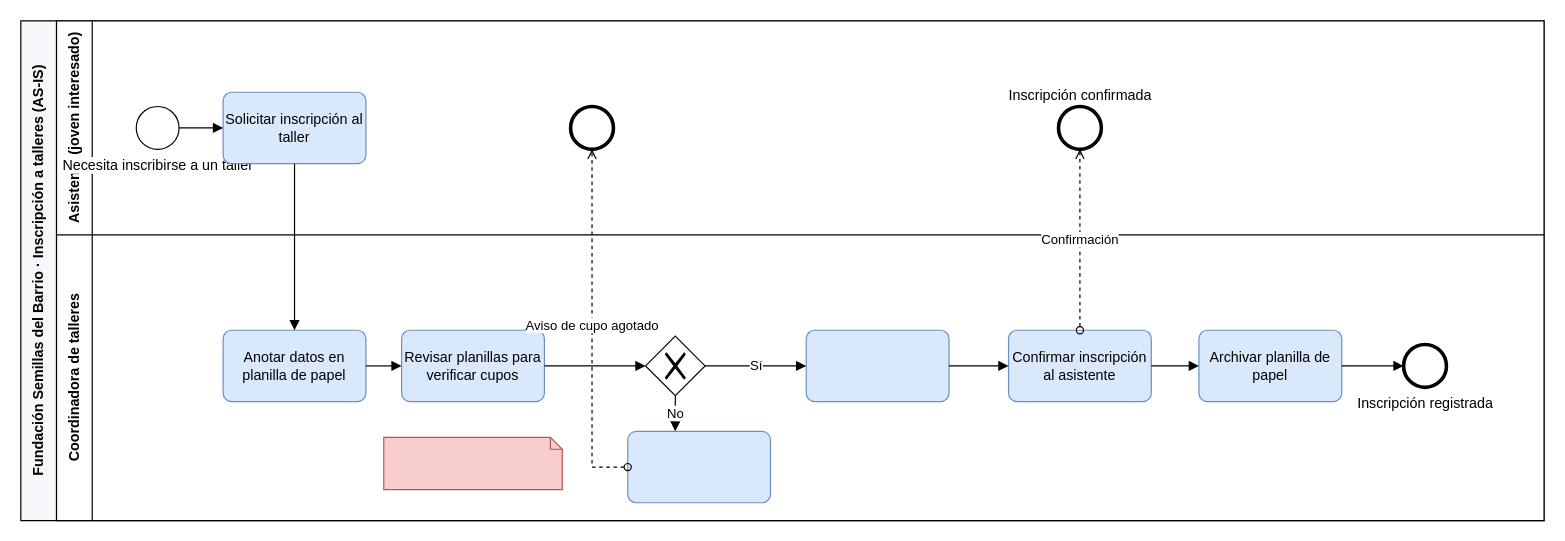
The diagram is 1565 pixels wide and 541 high, and some of its shapes have lost their labels. Each missing label, with the centre of its shape:
Asignar cupo y anotar nombre: pixel 877 365
Fallas hoy: cupos duplicados y listas perdidas: pixel 472 463
Informar que no hay cupo: pixel 699 466
Sin cupo, no inscrito: pixel 591 127
¿Hay cupo?: pixel 674 365
